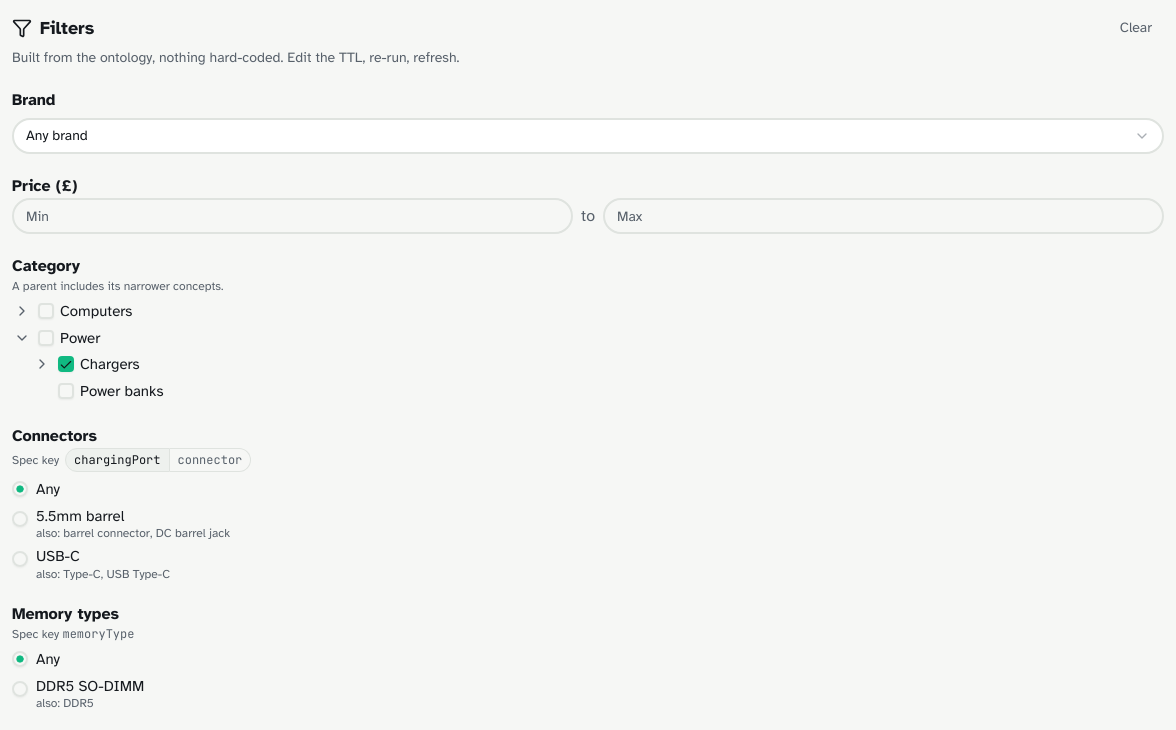
Test: FilterPanel › shows narrower concepts as included, not separately selectable, under a ticked parent
Check: the button named "Hide narrower concepts of Power" is shown, box [12,328,32,348]
Click the button named "Show narrower concepts of Chargers".
click(42, 364)  # box [32,354,52,374]
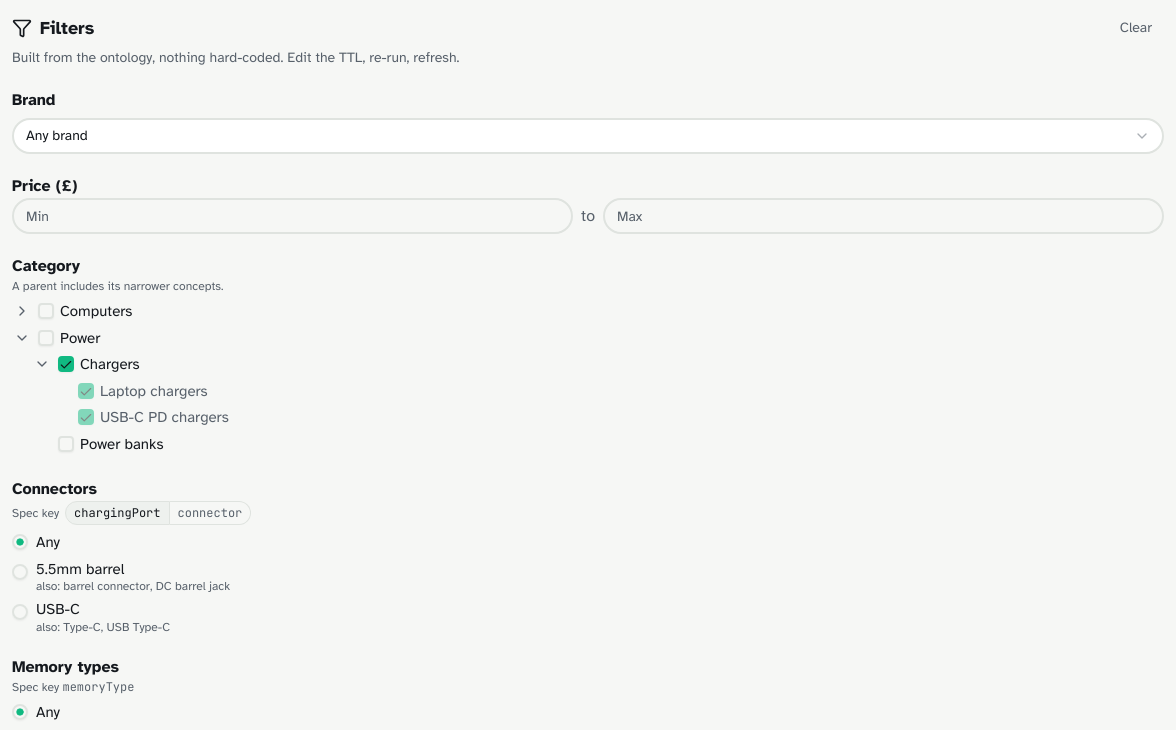
Check: the checkbox named "Laptop chargers, included by Chargers" next to "Laptop chargers" is disabled, box [78,383,94,399]
